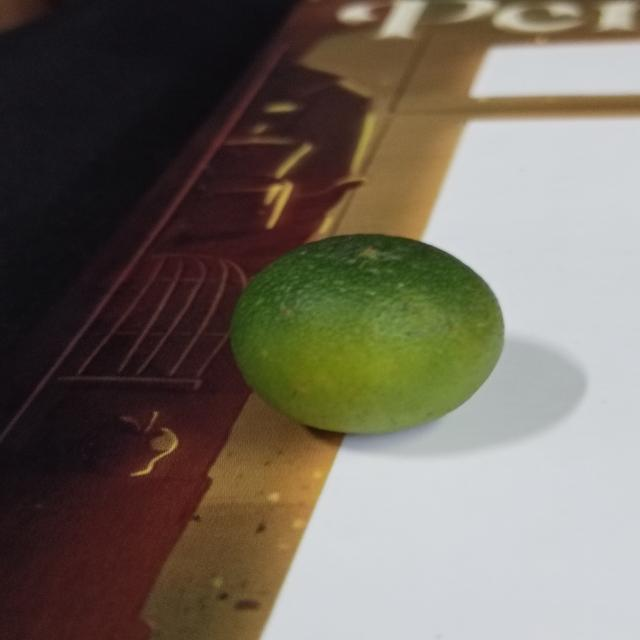heathy: (228, 234, 515, 443)
